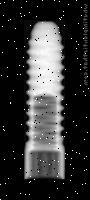BioHorizons: (24, 20, 65, 179)
